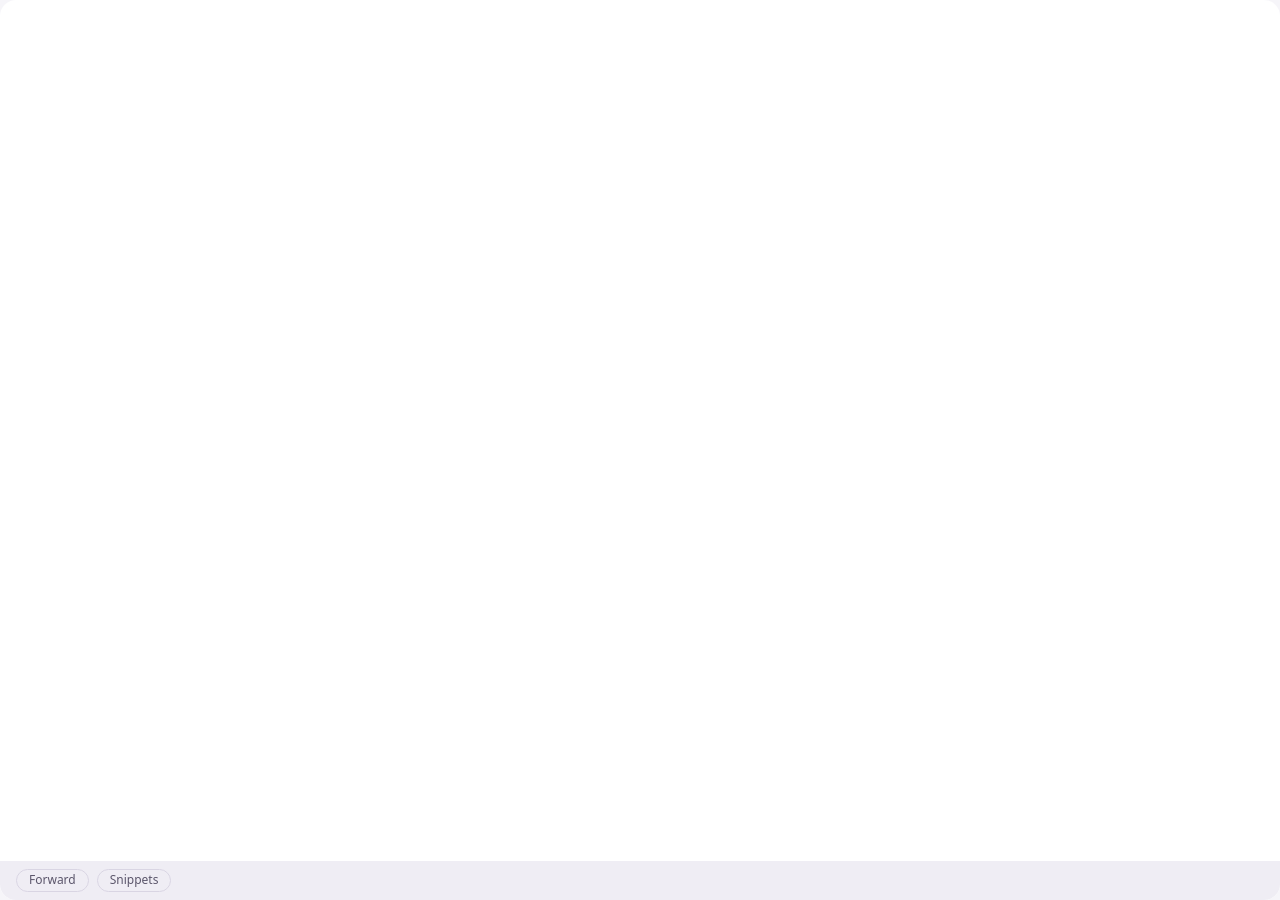
Test: several lines with bracketed paste go straight through
The width and height of the screenshot is (1280, 900).
Press P
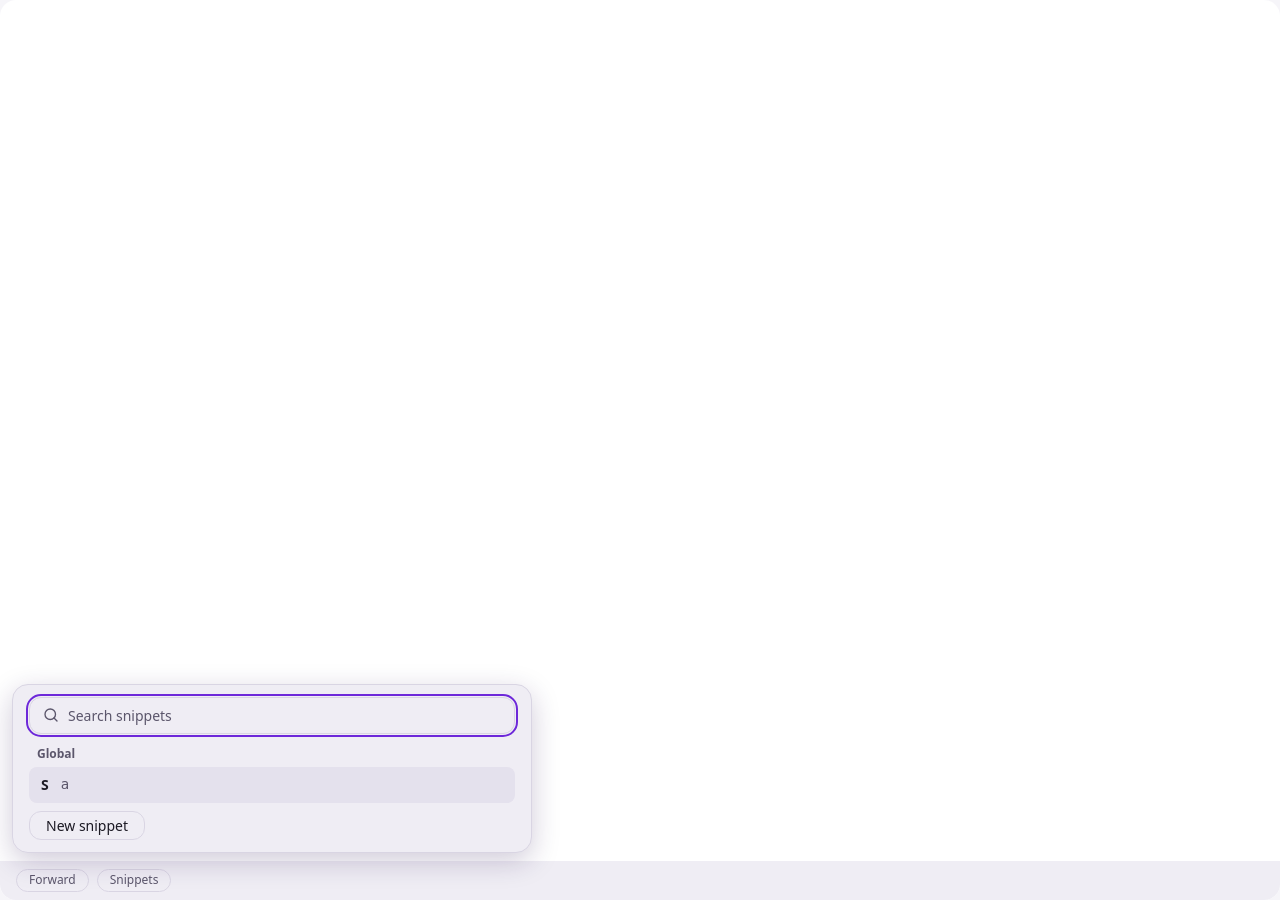
Click the option "S a": point(45, 785) x1=29 y1=767 x2=515 y2=803
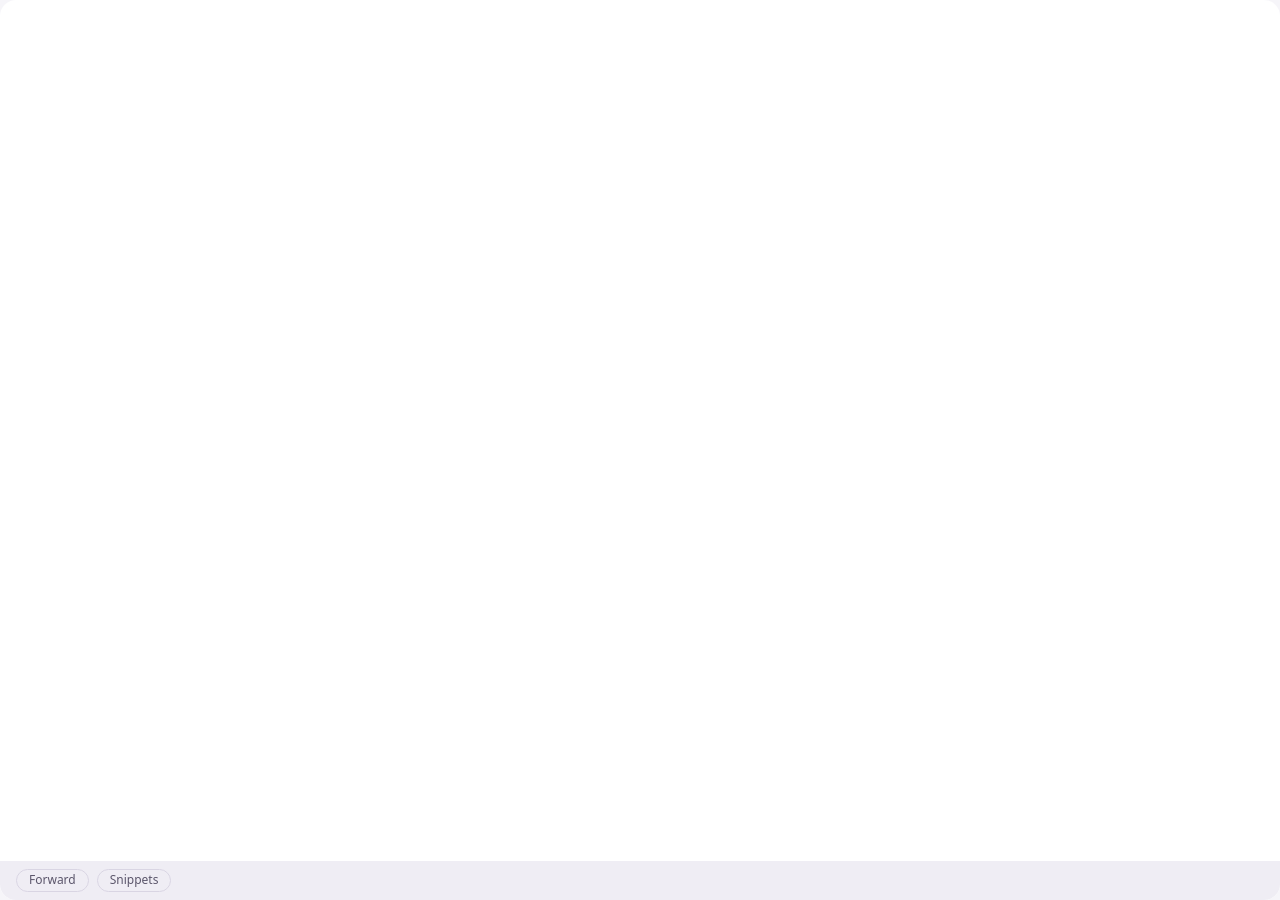
expect the dialog is gone: met
